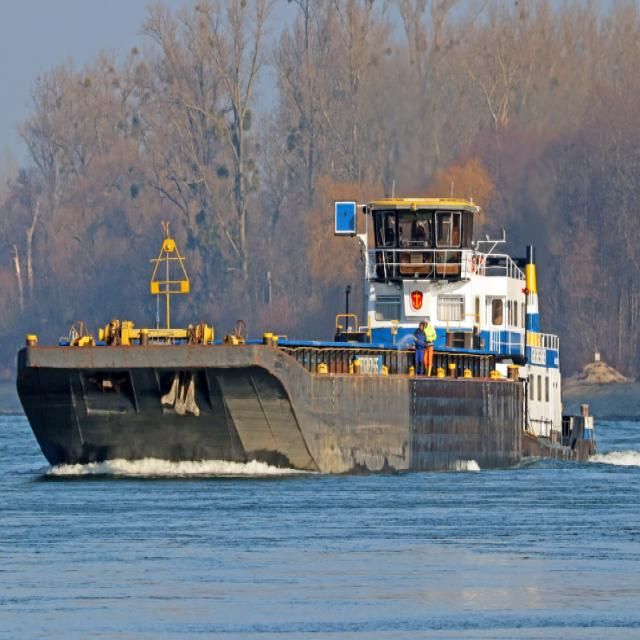tugboat: (317, 179, 602, 473)
